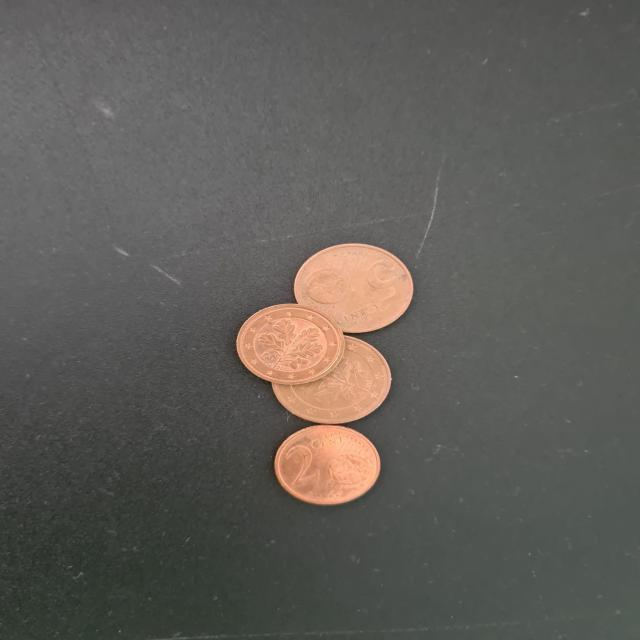2c: (266, 422, 397, 512), (228, 301, 349, 388)
5c: (286, 236, 424, 338), (268, 333, 399, 428)
